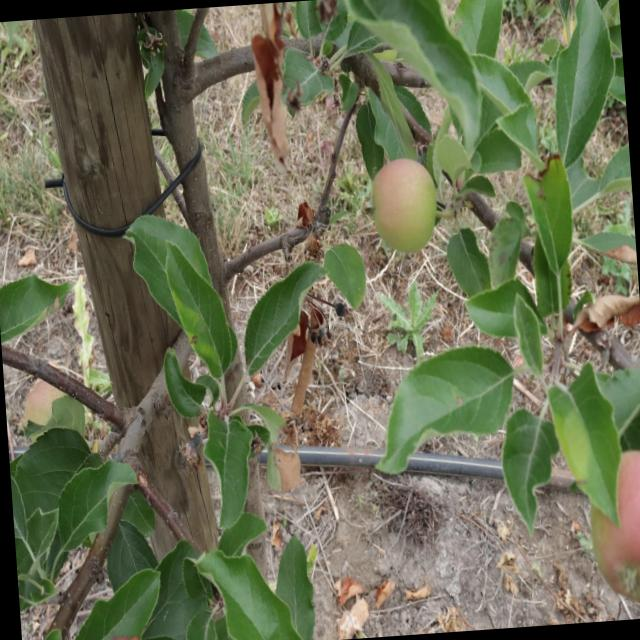-FireBlight-: (237, 22, 300, 180), (284, 294, 324, 421), (562, 284, 640, 342)
